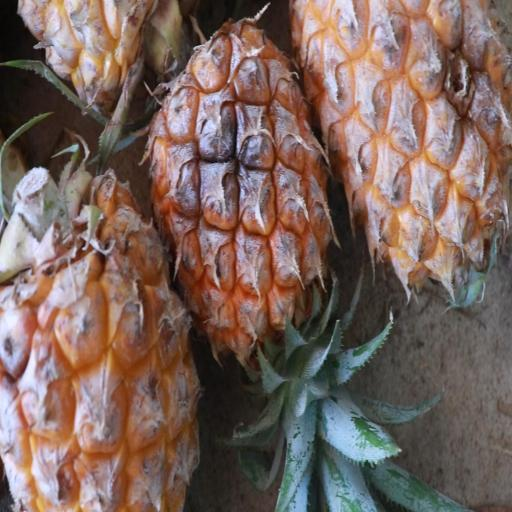Pineapple - v8 v1: (151, 8, 340, 422), (0, 170, 206, 512), (290, 0, 512, 298)
